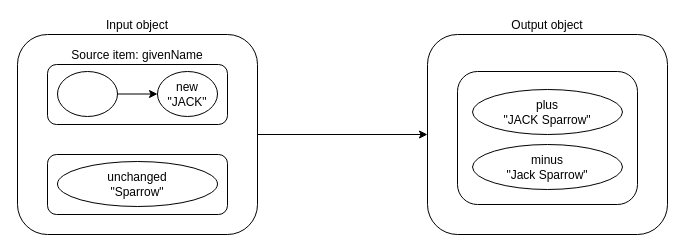
This 685x252 diagram has some shape labels left out. Here are the shapes that lost their labels. From the top down, the box of each, then its label:
(56, 70, 118, 116): old "Jack"
(456, 70, 638, 204): Output item: fullName
(46, 154, 228, 214): Source item: familyName
